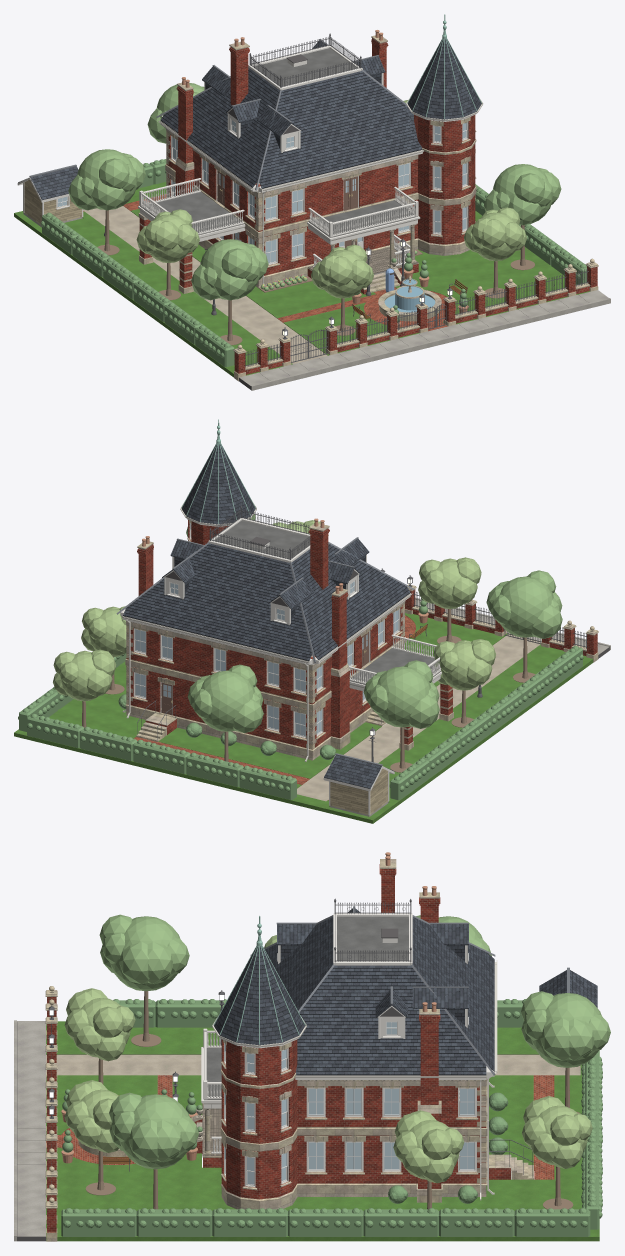
Rendered from building_assembled.glb.
The picture shows the model from 3 angles, top to bottom: view 1: azimuth 30°, elevation 25°; view 2: azimuth 150°, elevation 25°; view 3: azimuth 270°, elevation 25°; orthographic projection. The views are drawn at different scales.
Visible parts, largest first — view 1: geometry_898, geometry_896, geometry_894, geometry_1012, geometry_1018, geometry_445, geometry_1024, geometry_669, geometry_497, geometry_492, geometry_487, geometry_1027 (+48 smaller); view 2: geometry_898, geometry_1018, geometry_1033, geometry_1012, geometry_445, geometry_894, geometry_1027, geometry_1036, geometry_522, geometry_527, geometry_1015, geometry_517 (+43 smaller); view 3: geometry_898, geometry_896, geometry_1024, geometry_1033, geometry_1012, geometry_445, geometry_894, geometry_587, geometry_1027, geometry_1021, geometry_1036, geometry_424 (+59 smaller).
Boxes of the visible parts, left/top/right/bottom form: geometry_898: left=14, top=182, right=589, bottom=377; geometry_896: left=239, top=290, right=610, bottom=390; geometry_894: left=83, top=206, right=327, bottom=364; geometry_1012: left=191, top=239, right=268, bottom=300; geometry_1018: left=68, top=149, right=145, bottom=210; geometry_445: left=407, top=39, right=481, bottom=119; geometry_1024: left=484, top=164, right=561, bottom=225; geometry_669: left=307, top=186, right=420, bottom=267; geometry_497: left=335, top=71, right=394, bottom=162; geometry_492: left=308, top=77, right=368, bottom=169; geometry_487: left=282, top=84, right=341, bottom=175; geometry_1027: left=311, top=244, right=373, bottom=298; geometry_898: left=14, top=613, right=593, bottom=823; geometry_1018: left=363, top=660, right=439, bottom=728; geometry_1033: left=187, top=664, right=263, bottom=733; geometry_1012: left=486, top=570, right=562, bottom=638; geometry_445: left=181, top=444, right=255, bottom=524; geometry_894: left=297, top=634, right=540, bottom=801; geometry_1027: left=418, top=557, right=481, bottom=608; geometry_1036: left=53, top=649, right=116, bottom=701; geometry_522: left=203, top=550, right=262, bottom=641; geometry_527: left=176, top=543, right=235, bottom=635; geometry_1015: left=433, top=639, right=495, bottom=690; geometry_517: left=229, top=556, right=289, bottom=648; geometry_898: left=46, top=1021, right=599, bottom=1241; geometry_896: left=14, top=1020, right=45, bottom=1241; geometry_1024: left=109, top=1092, right=198, bottom=1169; geometry_1033: left=521, top=991, right=610, bottom=1067; geometry_1012: left=99, top=914, right=189, bottom=991; geometry_445: left=214, top=945, right=304, bottom=1045; geometry_894: left=46, top=1054, right=580, bottom=1075; geometry_587: left=335, top=965, right=372, bottom=1075; geometry_1027: left=64, top=988, right=135, bottom=1061; geometry_1021: left=393, top=1110, right=464, bottom=1183; geometry_1036: left=522, top=1096, right=592, bottom=1168; geometry_424: left=221, top=1074, right=297, bottom=1143.
Size of the model in its own units: 27.56 by 16.7 by 31.6.
Materials: 52 (13 with a texture image).
